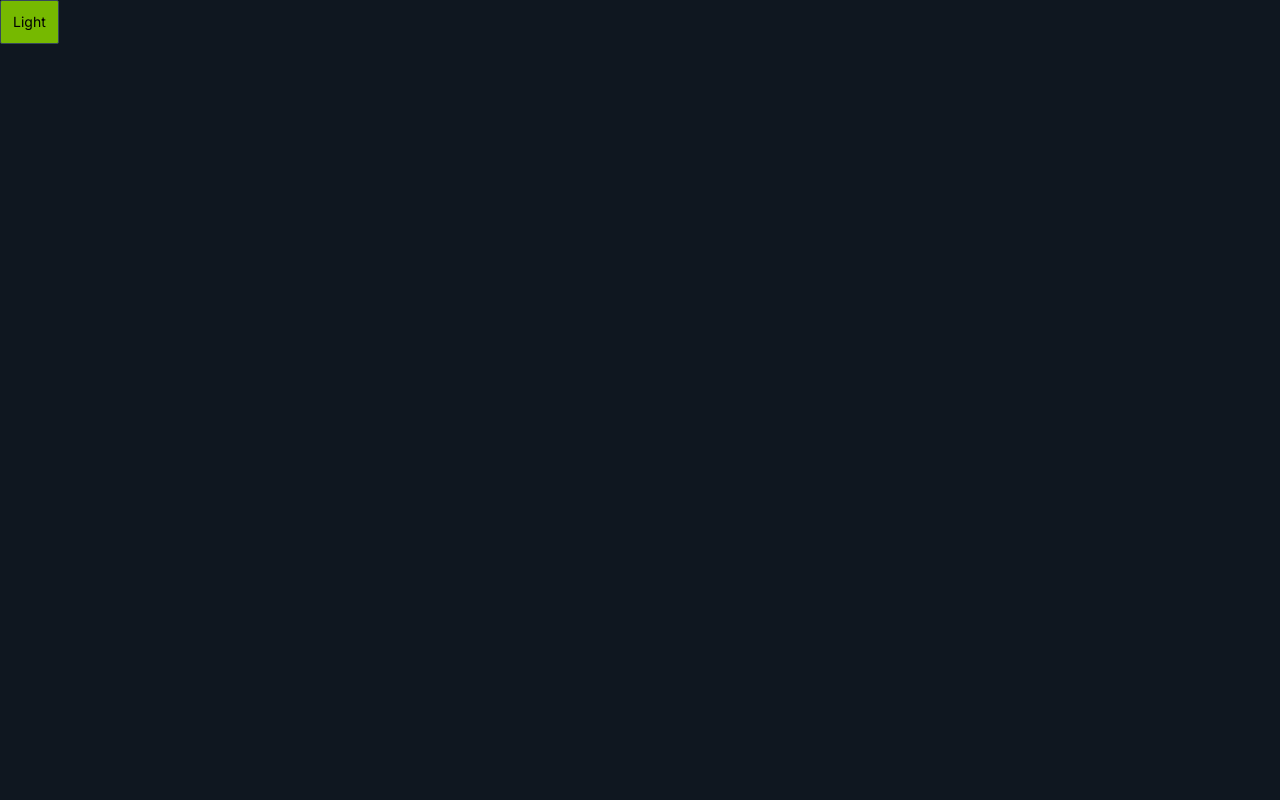
Test: ThemeToggle › renders an accessible dark-mode toggle and persists its selected theme
Click the button with aria-label "Switch to light theme".
click(29, 22)  # box [0,0,59,44]
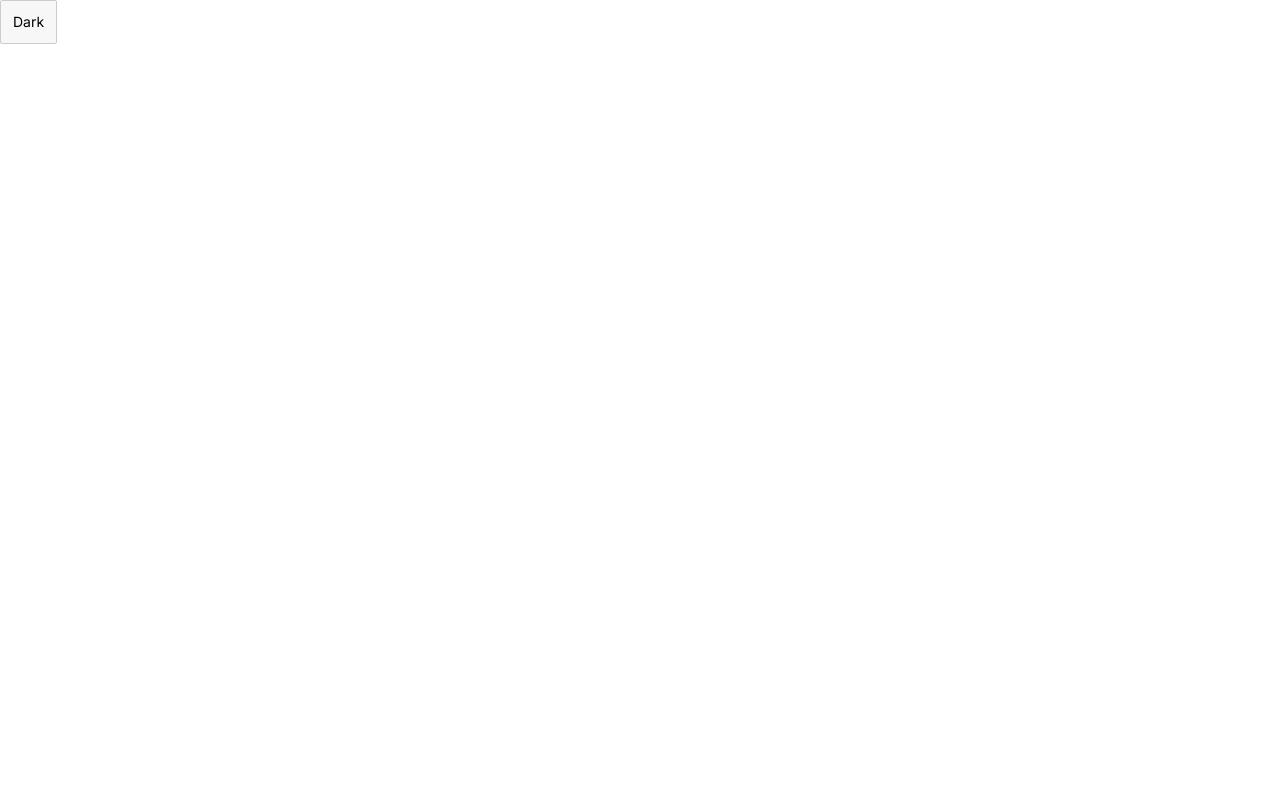
Expected: the button named "Switch to light theme" is not pressed, [0,0,57,44]
Expected: the button named "Switch to light theme" has class "bg-raised", [0,0,57,44]
Expected: the button named "Switch to light theme" does not have class "bg-accent", [0,0,57,44]
